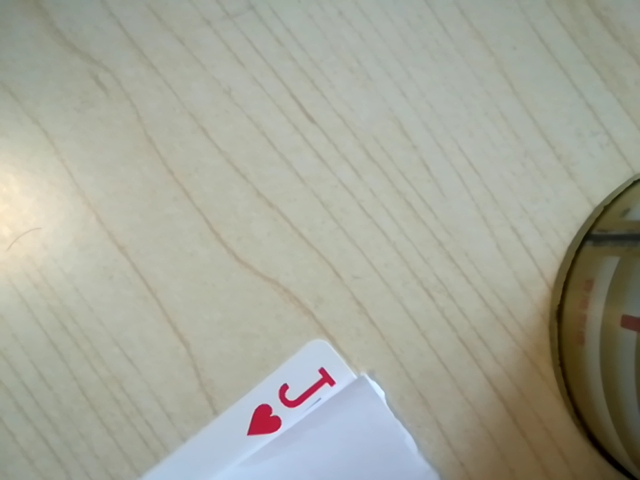hx j: (236, 364, 346, 444)
